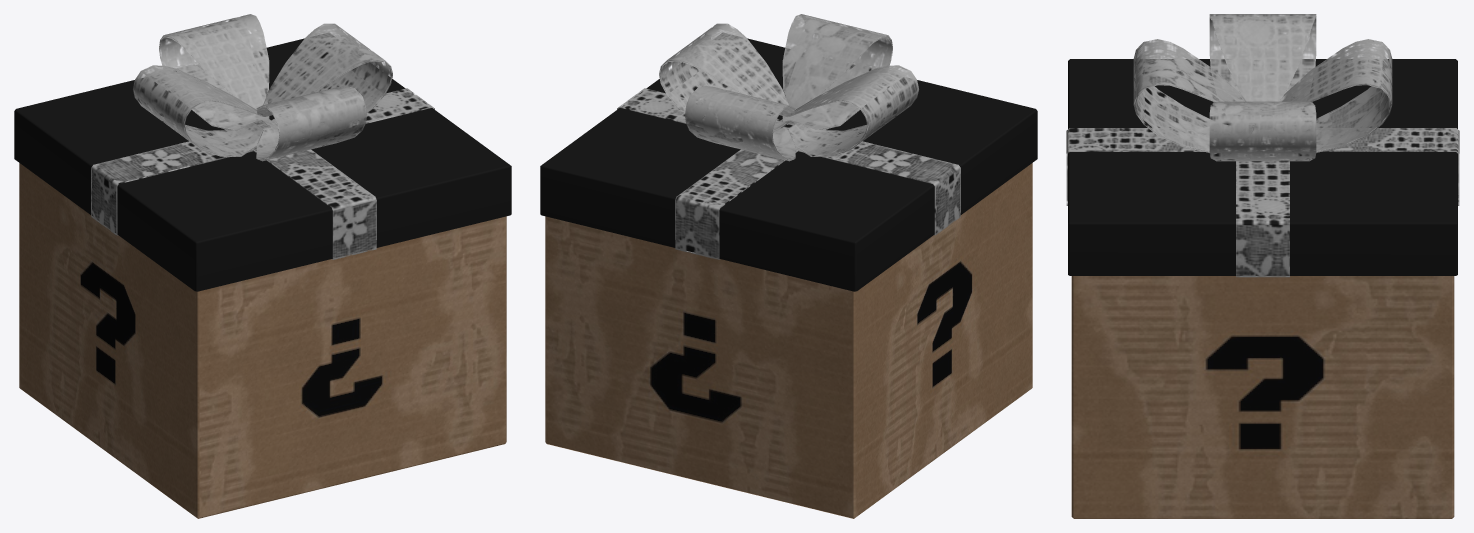
Rendered from gift_box_4.glb.
The picture shows the model from 3 angles, left to right: view 1: azimuth 30°, elevation 25°; view 2: azimuth 150°, elevation 25°; view 3: azimuth 270°, elevation 25°; orthographic projection. The views are drawn at different scales.
Visible parts, largest first — view 1: SK_GiftBox (×3); view 2: SK_GiftBox (×3); view 3: SK_GiftBox (×3).
Boxes of the visible parts, <box> form: SK_GiftBox (×3): <box>14,14,511,518</box>; SK_GiftBox (×3): <box>540,14,1037,518</box>; SK_GiftBox (×3): <box>1066,14,1459,518</box>.
Bounding box in the file's own units: 1.88 × 2 × 1.88.
Materials: 3 (3 with a texture image).
